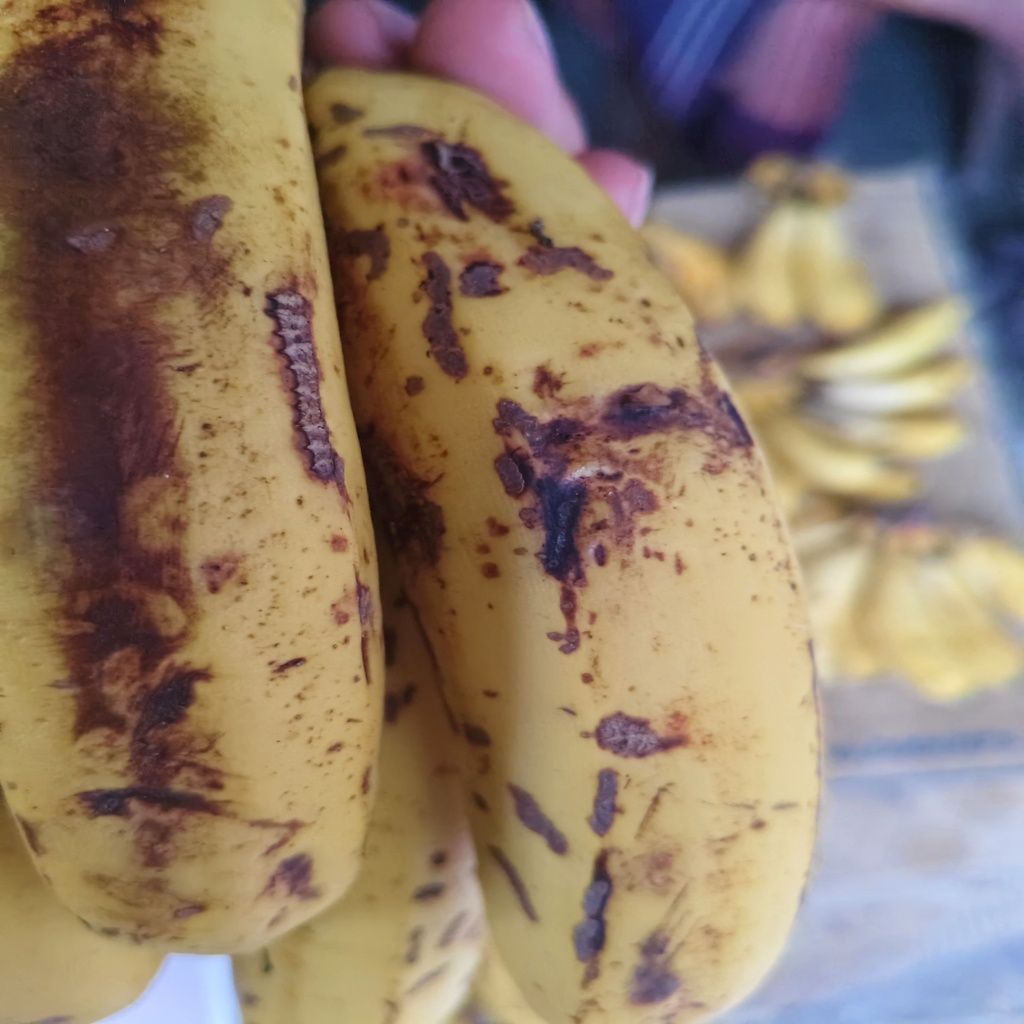unhealthy: (308, 84, 818, 1022), (1, 4, 379, 958)
